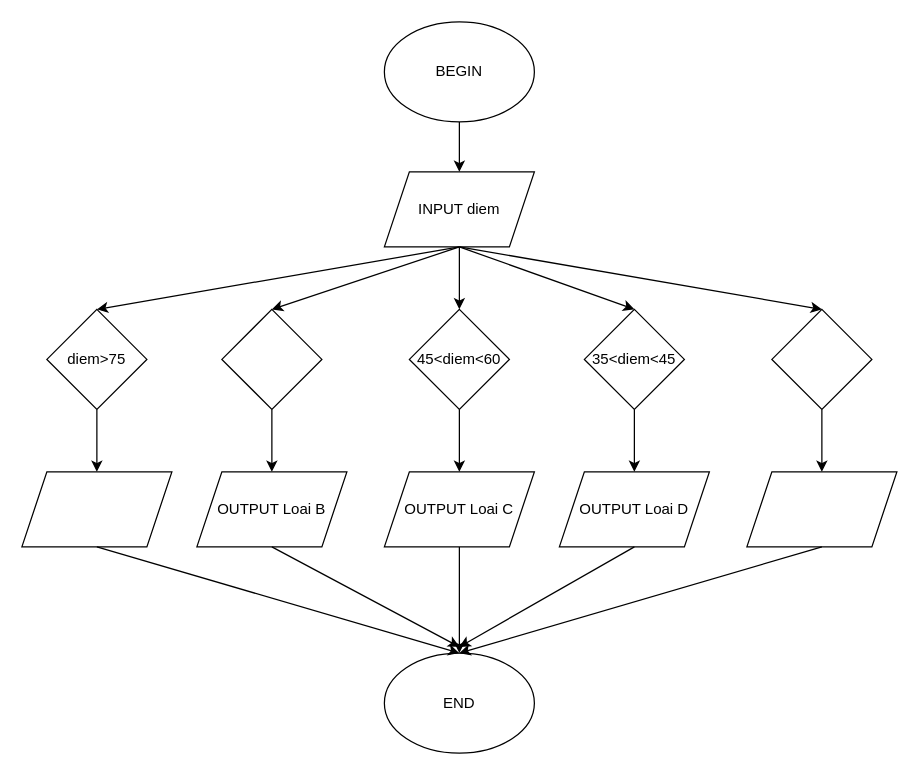
This 919x775 diagram has some shape labels left out. Here are the shapes that lost their labels. From the top down, the centre of each, then its label:
the point at 271,358: 60<diem<75
the point at 821,358: diem<35
the point at 96,509: OUTPUT Loai A
the point at 821,509: OUTPUT Loai E
